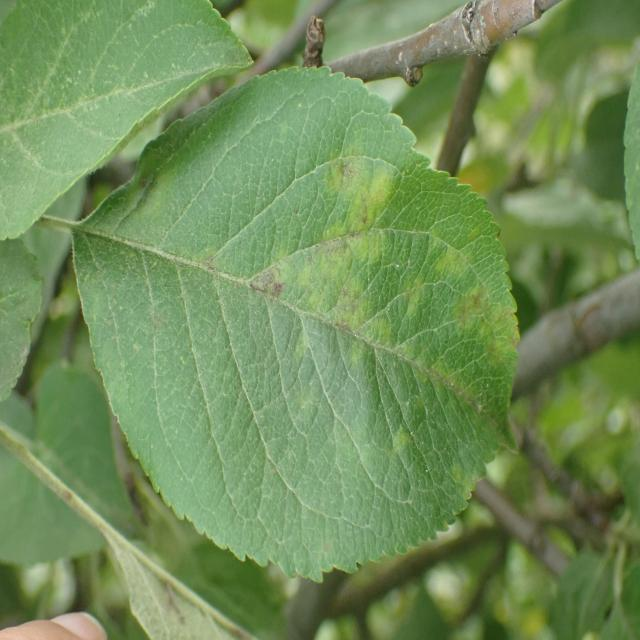scab: (115, 157, 520, 500)
